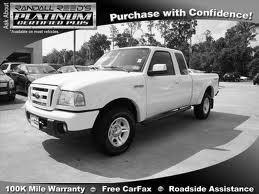car: (25, 45, 221, 159)
